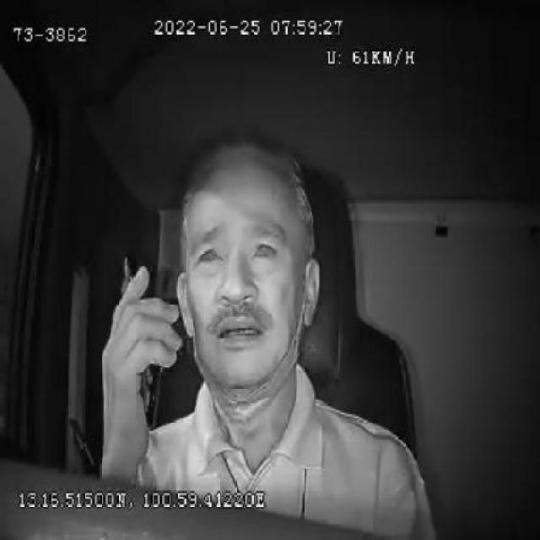phone: (118, 252, 164, 431)
